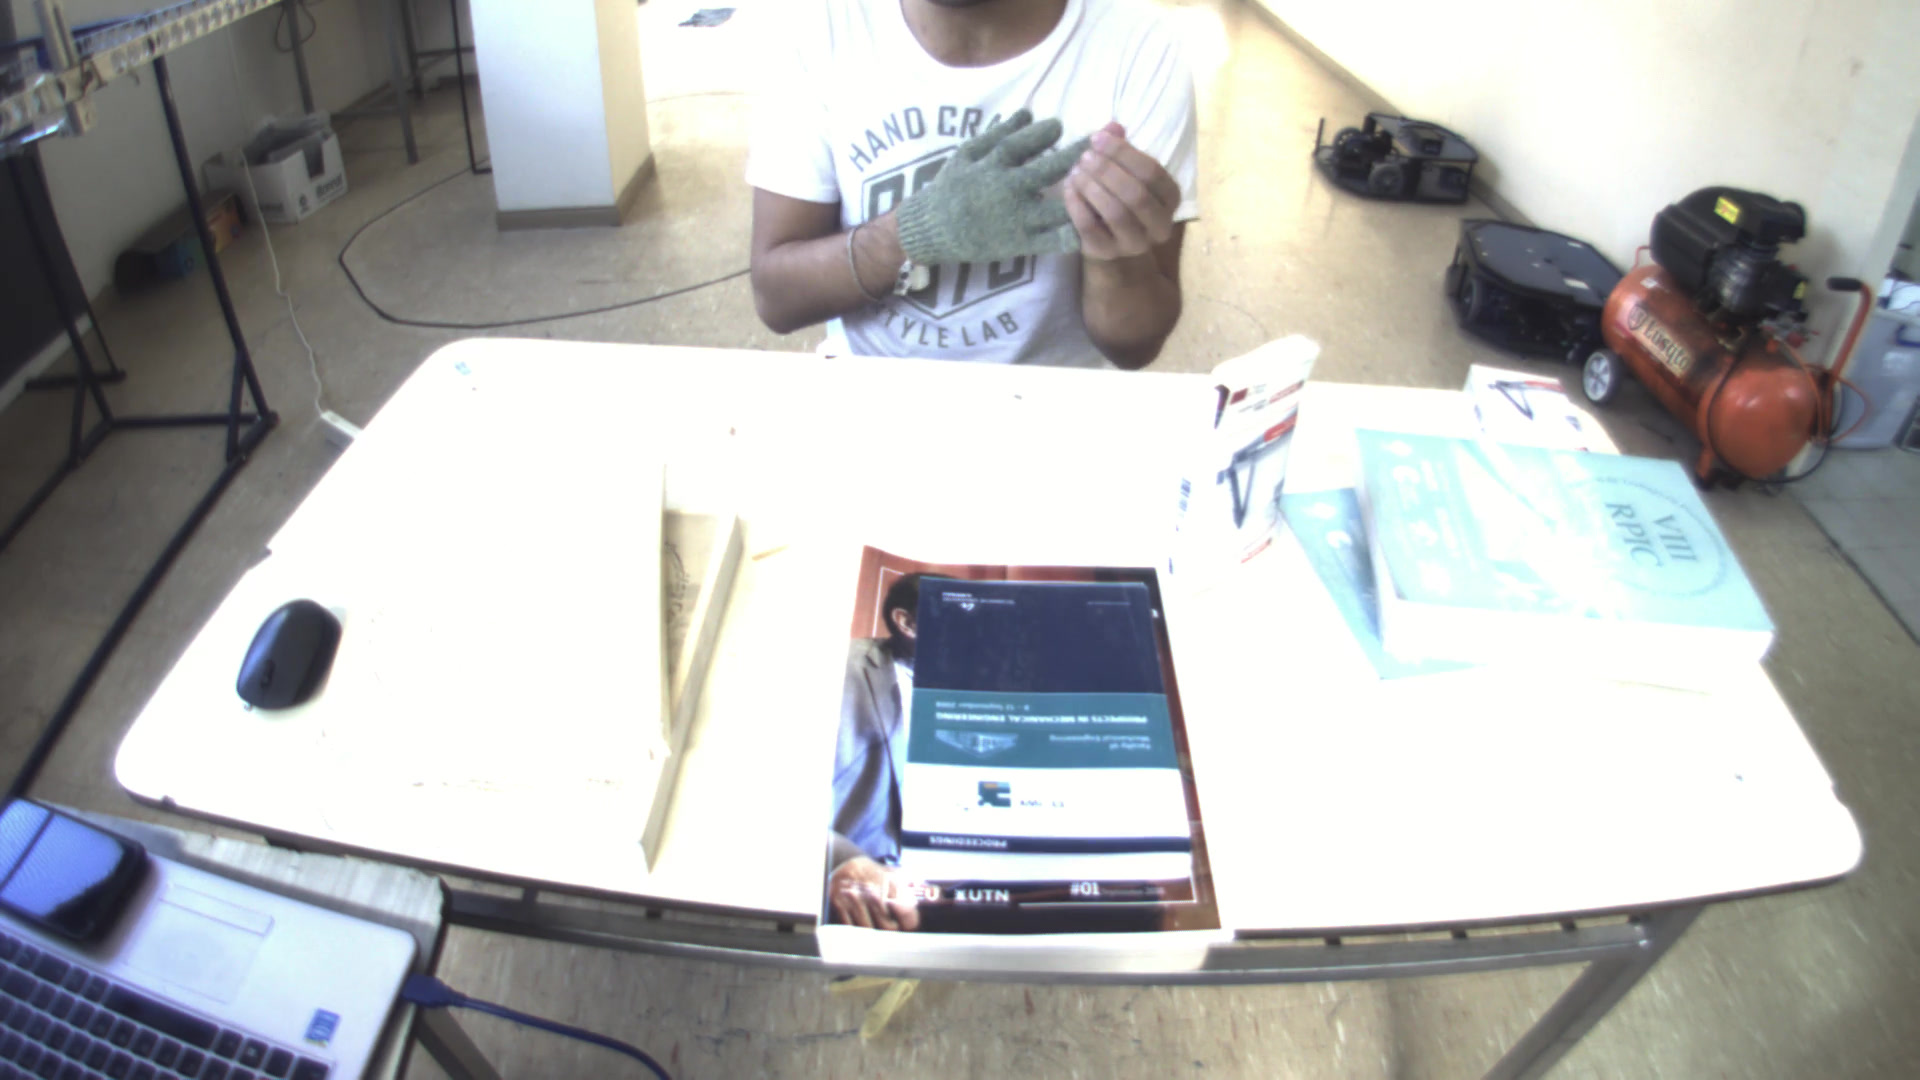hand: (884, 104, 1093, 277), (1059, 120, 1193, 256)
